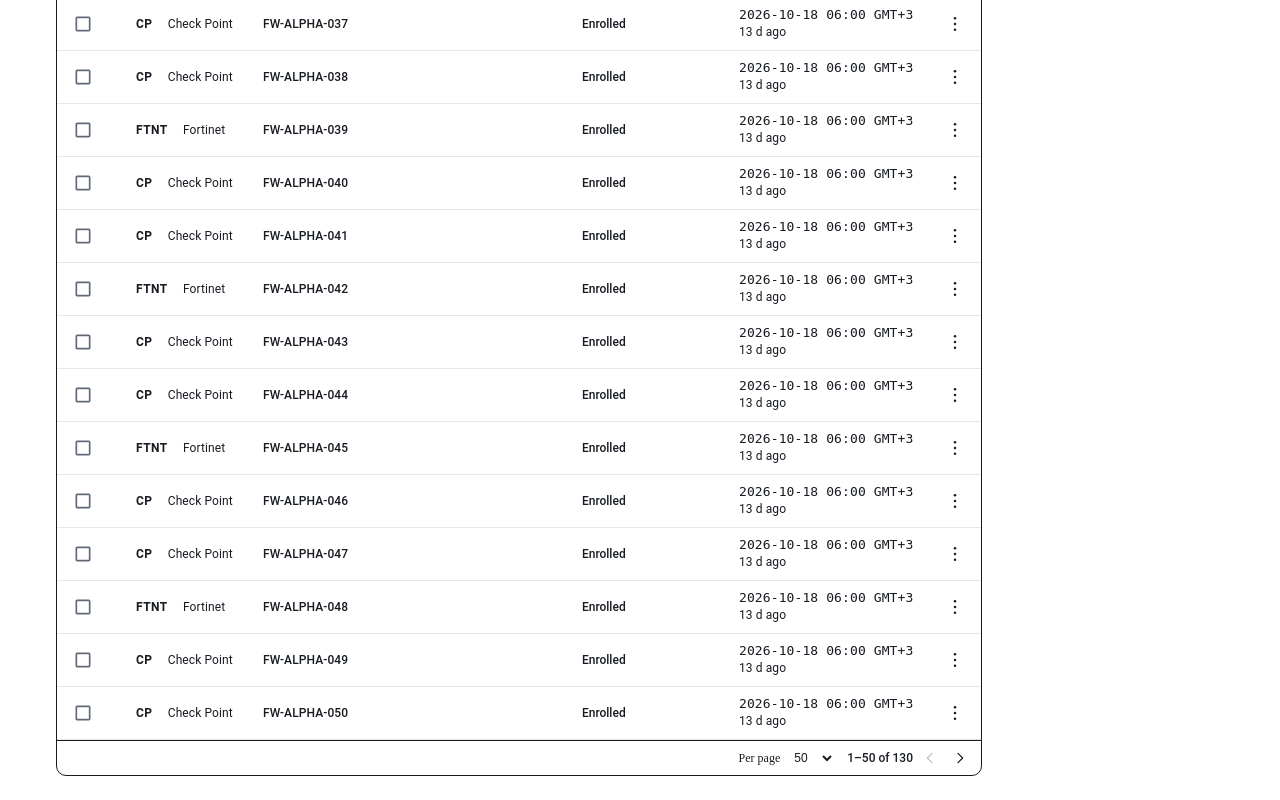
Scenario: Administration device registry (UI review 2026-10-18, F-22) › pages a large registry and keeps every row reachable
(page scrolled)
Expected: the text "1–50 of 130" is shown, [847,750,913,766]
Click the button named "Go to next page": (960, 758) [947,745,973,771]
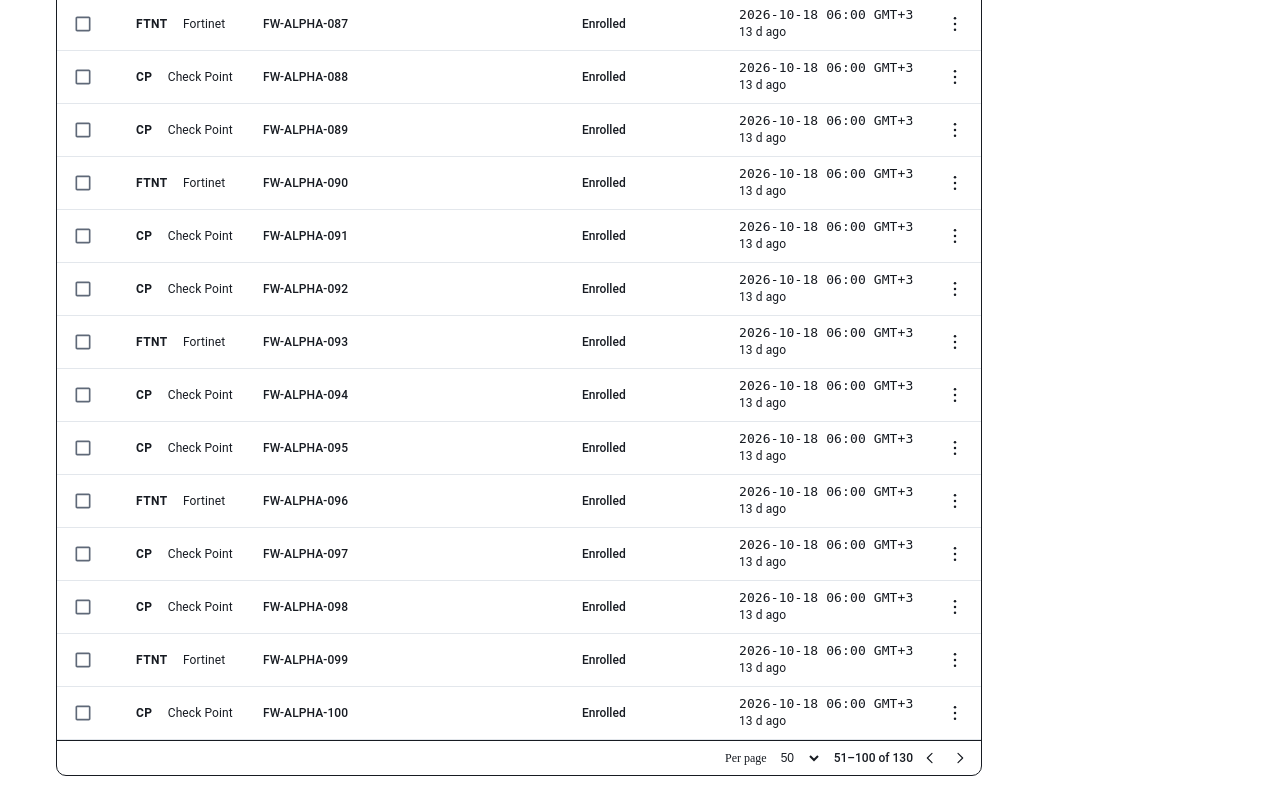
Click the button named "Go to next page": (960, 758) [947,745,973,771]
(page scrolled)
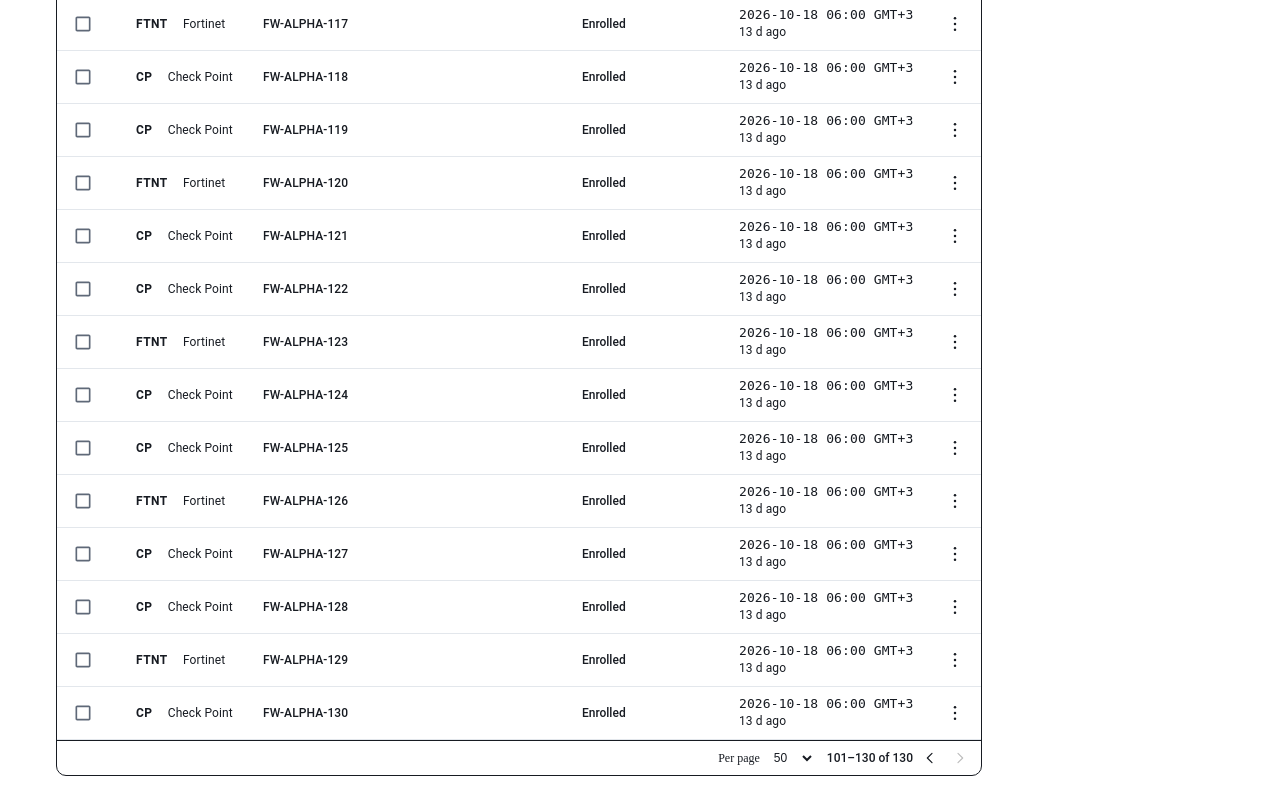
Expected: the text "101–130 of 130" is shown, [827,750,913,766]
